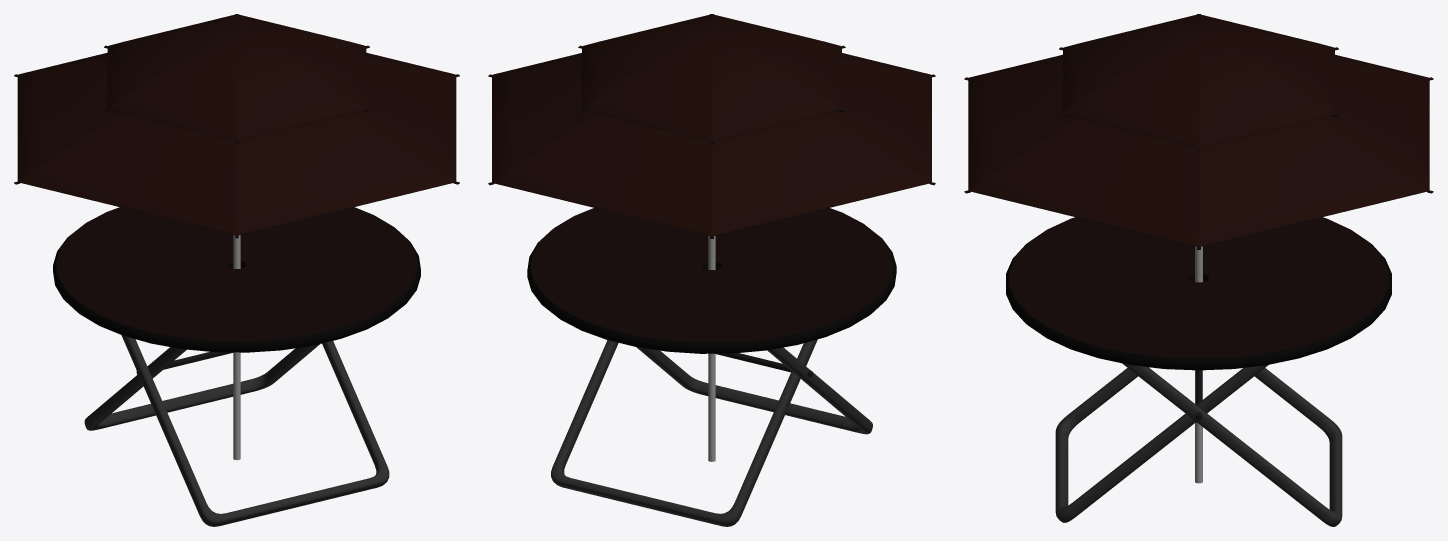
File: h-006_table_04_set_F.FBX
3 views of the same model, side by side, from view 1: azimuth 30°, elevation 25°; view 2: azimuth 150°, elevation 25°; view 3: azimuth 270°, elevation 25° (orthographic). The views are drawn at different scales.
Visible parts, largest first — view 1: h-006_table_04_parasol, h-006_table_04; view 2: h-006_table_04_parasol, h-006_table_04; view 3: h-006_table_04_parasol, h-006_table_04.
Part boxes in pixels (x1,y1,x2,y2): h-006_table_04_parasol: (14, 14, 459, 460); h-006_table_04: (53, 207, 420, 526); h-006_table_04_parasol: (488, 14, 935, 461); h-006_table_04: (527, 208, 896, 526); h-006_table_04_parasol: (964, 14, 1433, 483); h-006_table_04: (1006, 217, 1391, 526).
Size of the model in its own units: 26.73 by 24.2 by 23.24.
